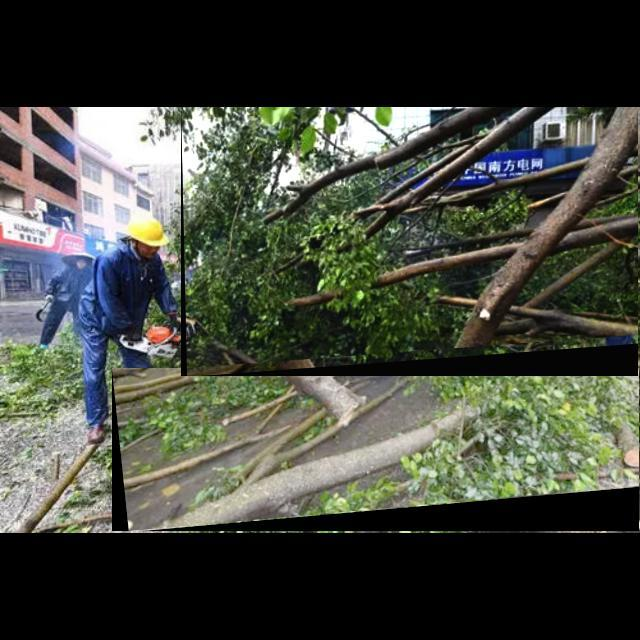fallen_tree: (181, 107, 639, 377), (112, 368, 640, 532)
